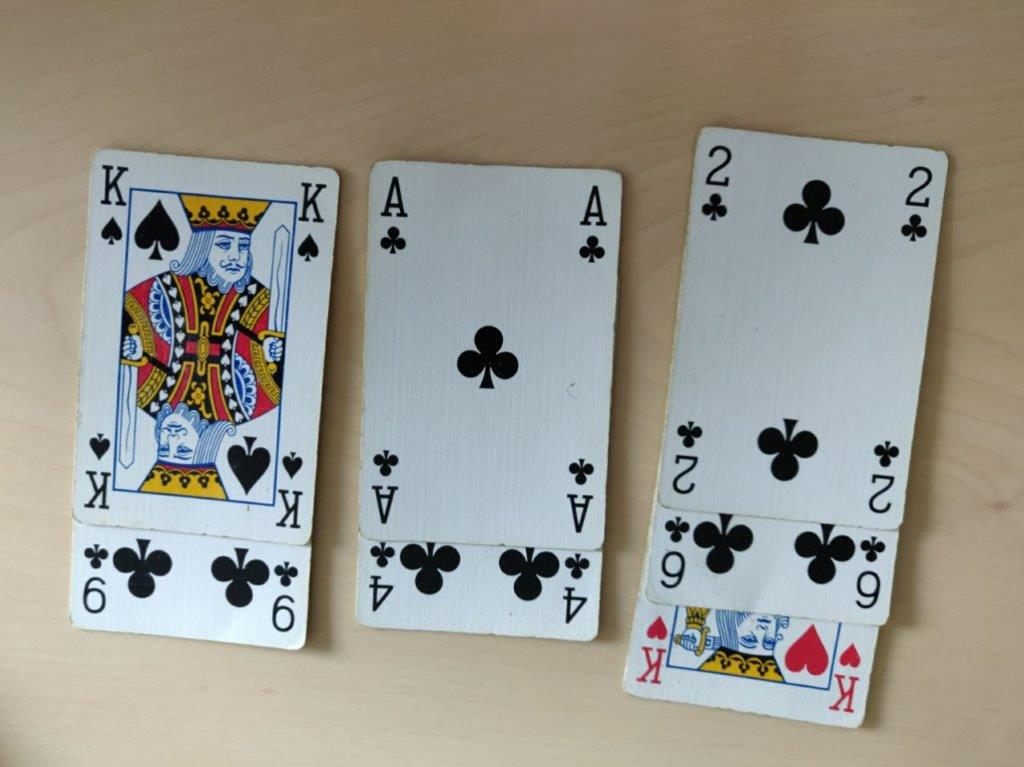2C: (670, 131, 961, 513)
4C: (354, 535, 608, 656)
6C: (645, 507, 904, 619)
9C: (68, 525, 313, 648)
AC: (370, 161, 607, 543)
KH: (628, 599, 882, 725)
KS: (85, 158, 328, 542)
